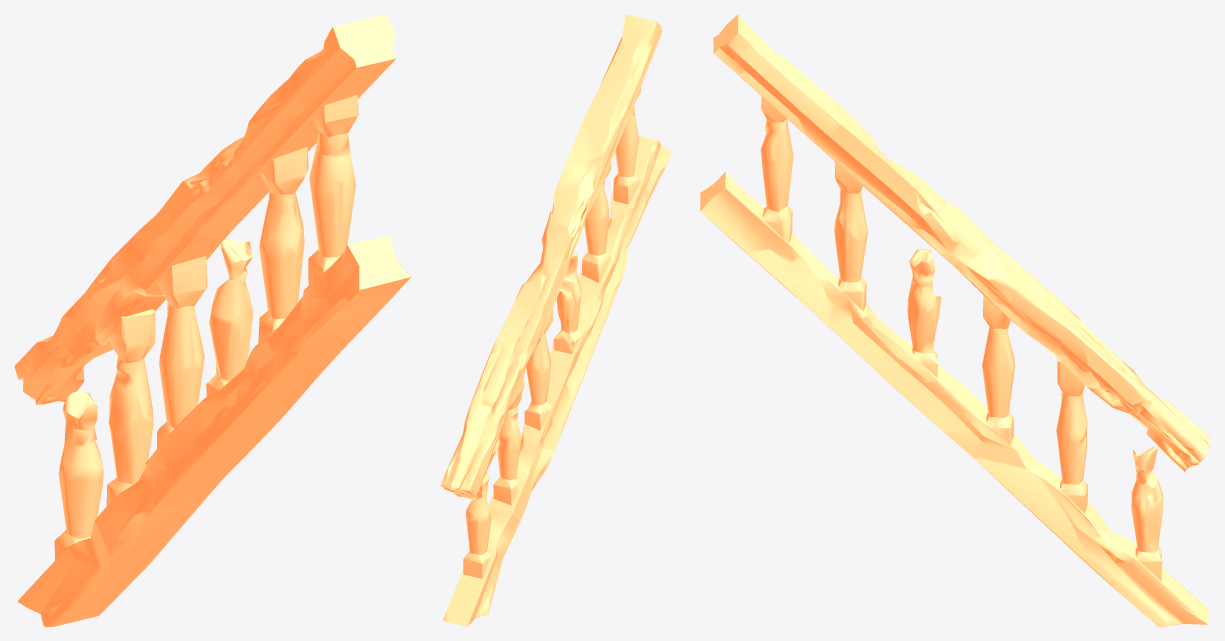
The model's file is SM_Rails_Stairs.fbx.
3 views of the same model, side by side, from view 1: azimuth 30°, elevation 25°; view 2: azimuth 150°, elevation 25°; view 3: azimuth 270°, elevation 25° (orthographic). The views are drawn at different scales.
Visible parts, largest first — view 1: SM_Rails_Stairs_LOD0; view 2: SM_Rails_Stairs_LOD0; view 3: SM_Rails_Stairs_LOD0.
Boxes of the visible parts, left/top/right/bottom form: SM_Rails_Stairs_LOD0: left=14, top=14, right=411, bottom=626; SM_Rails_Stairs_LOD0: left=440, top=14, right=671, bottom=626; SM_Rails_Stairs_LOD0: left=700, top=14, right=1210, bottom=626.
Bounding box in the file's own units: 33.23 × 346 × 444.
